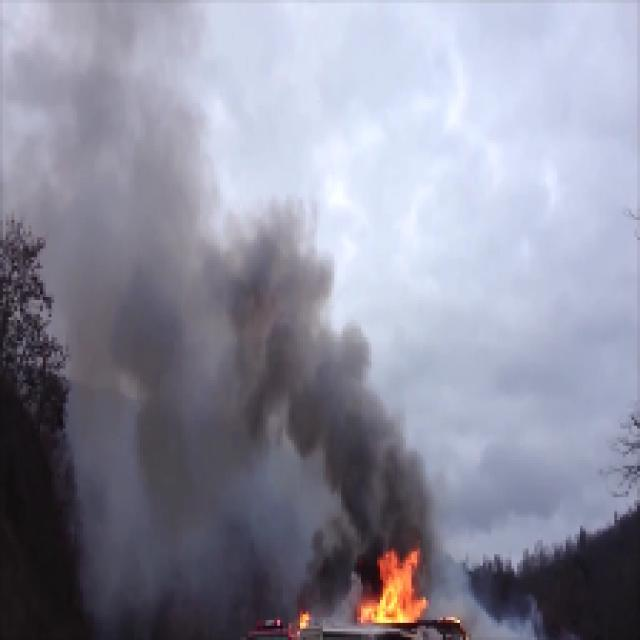fire: (364, 551, 434, 630)
smoke: (54, 1, 220, 517), (235, 214, 346, 466), (350, 372, 436, 536)
